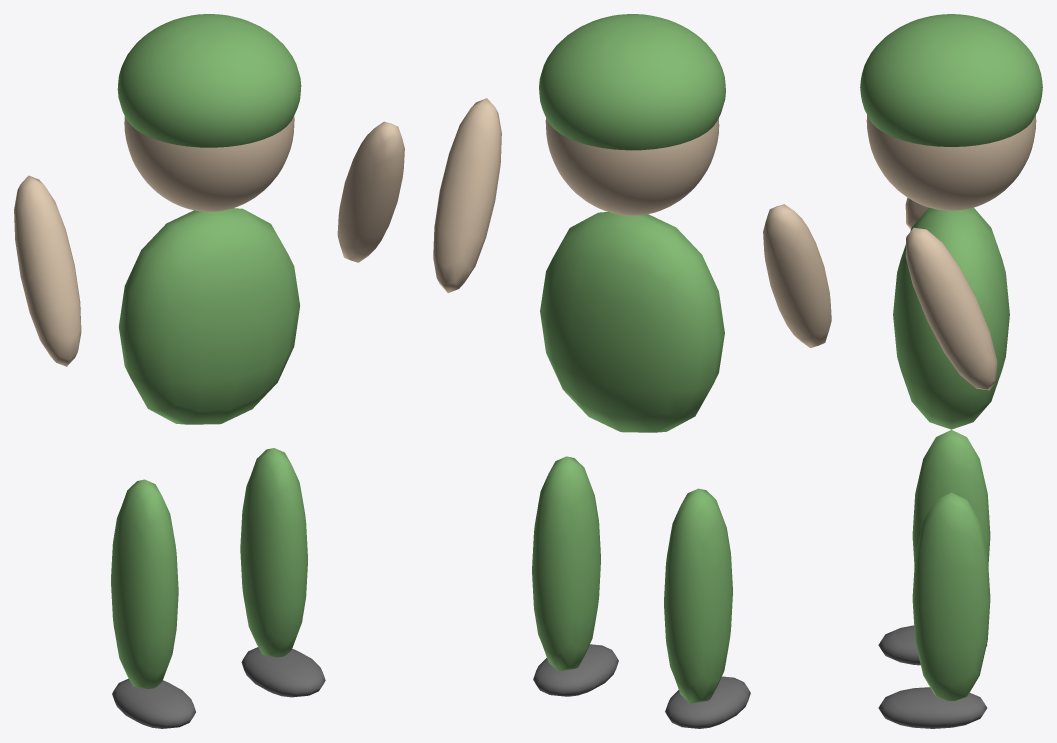
The model's file is action_figure.glb.
3 views of the same model, side by side, from view 1: azimuth 30°, elevation 25°; view 2: azimuth 150°, elevation 25°; view 3: azimuth 270°, elevation 25° (orthographic). The views are drawn at different scales.
Parts seen in each view (by area): view 1: action_figure; view 2: action_figure; view 3: action_figure.
Part boxes in pixels (x1,y1,x2,y2): action_figure: [14, 14, 404, 728]; action_figure: [433, 14, 831, 728]; action_figure: [860, 14, 1042, 728].
Bounding box in the file's own units: 0.4588 × 0.7906 × 0.1968.
